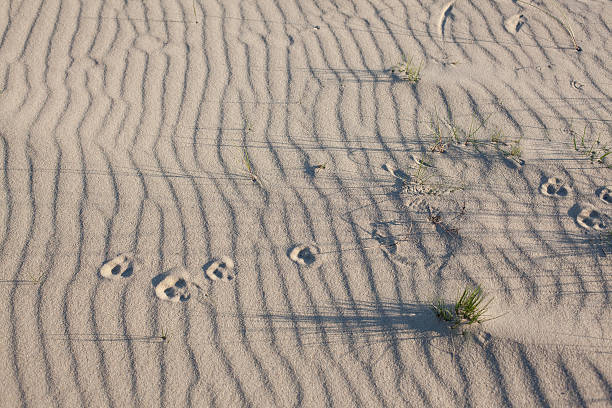animal_footprint: (152, 269, 190, 302), (570, 205, 607, 230), (99, 253, 132, 279), (203, 257, 234, 281), (288, 244, 320, 266), (539, 177, 569, 196), (596, 186, 611, 203)
